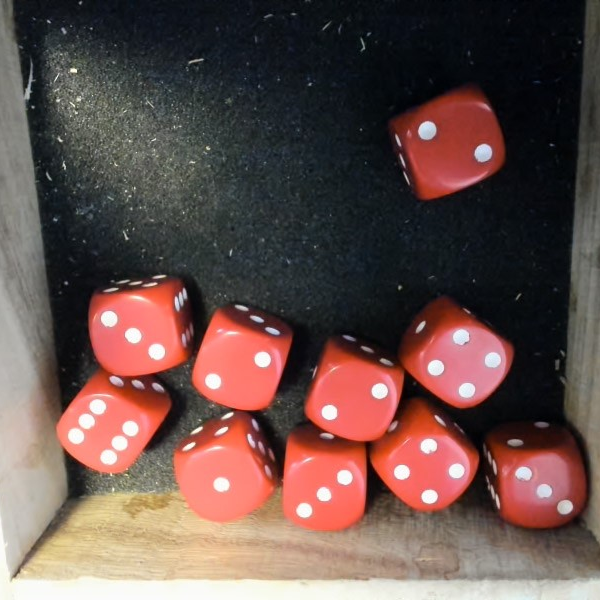red_die_pip1: (162, 399, 293, 531)
red_die_pip2: (181, 294, 301, 422), (389, 82, 513, 203), (298, 326, 416, 450)
red_die_pip3: (82, 271, 204, 384), (481, 418, 591, 533), (273, 429, 363, 533)
red_die_pip4: (394, 293, 523, 421), (364, 399, 489, 524)
red_die_pip6: (44, 348, 180, 491)
